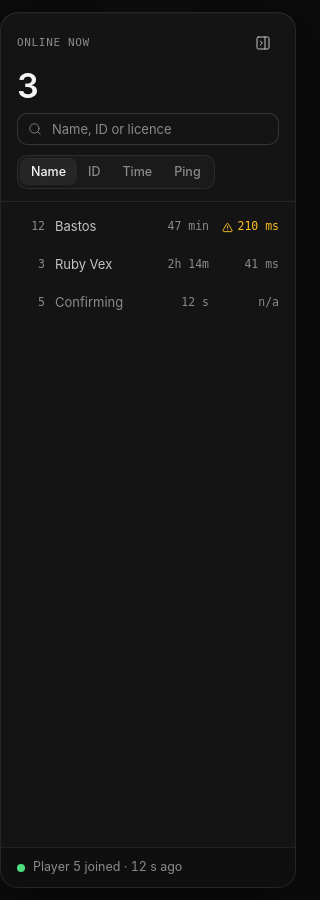
it: the players column › should find a player by name, by whole server ID, or by licence
The image size is (320, 900).
Type "rUBy" into the search field named "Find a player" at (148, 129), box [17, 113, 279, 145]
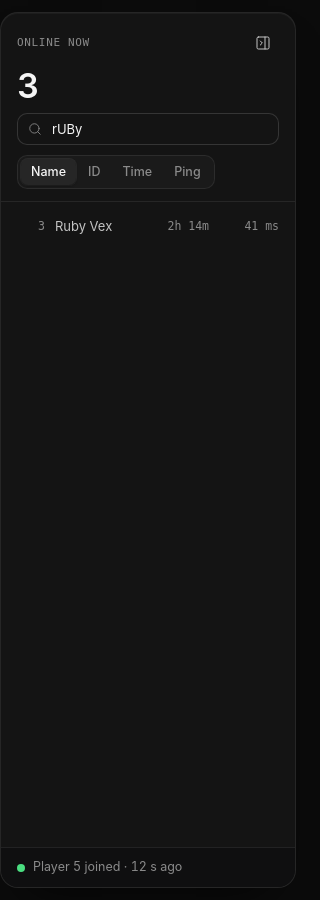
Replace the text in the search field named "Find a player" with "12" at (148, 129), box [17, 113, 279, 145]
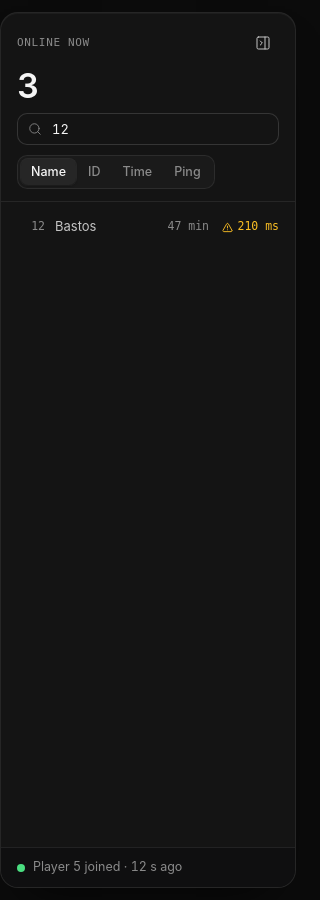
Replace the text in the search field named "Find a player" with "license:ffff" at (148, 129), box [17, 113, 279, 145]
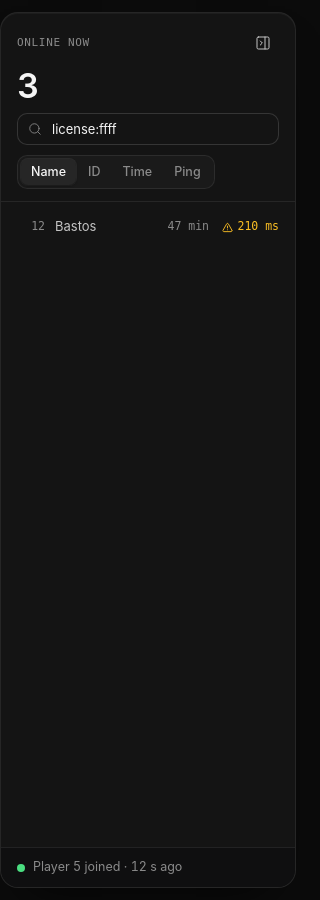
Replace the text in the search field named "Find a player" with "nobody" at (148, 129), box [17, 113, 279, 145]
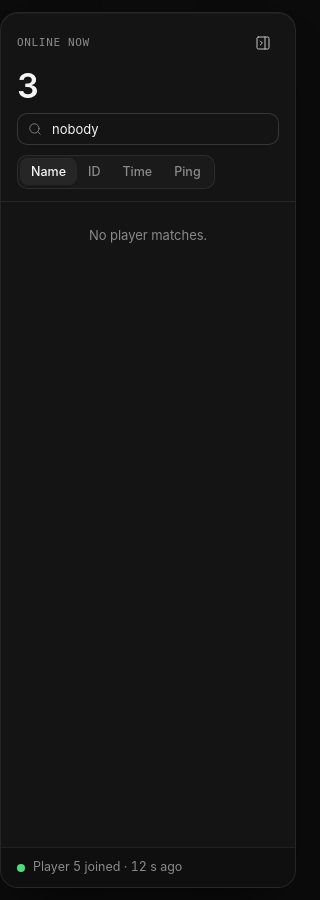
Expected: the text "No player matches." is shown, [89, 227, 207, 243]
